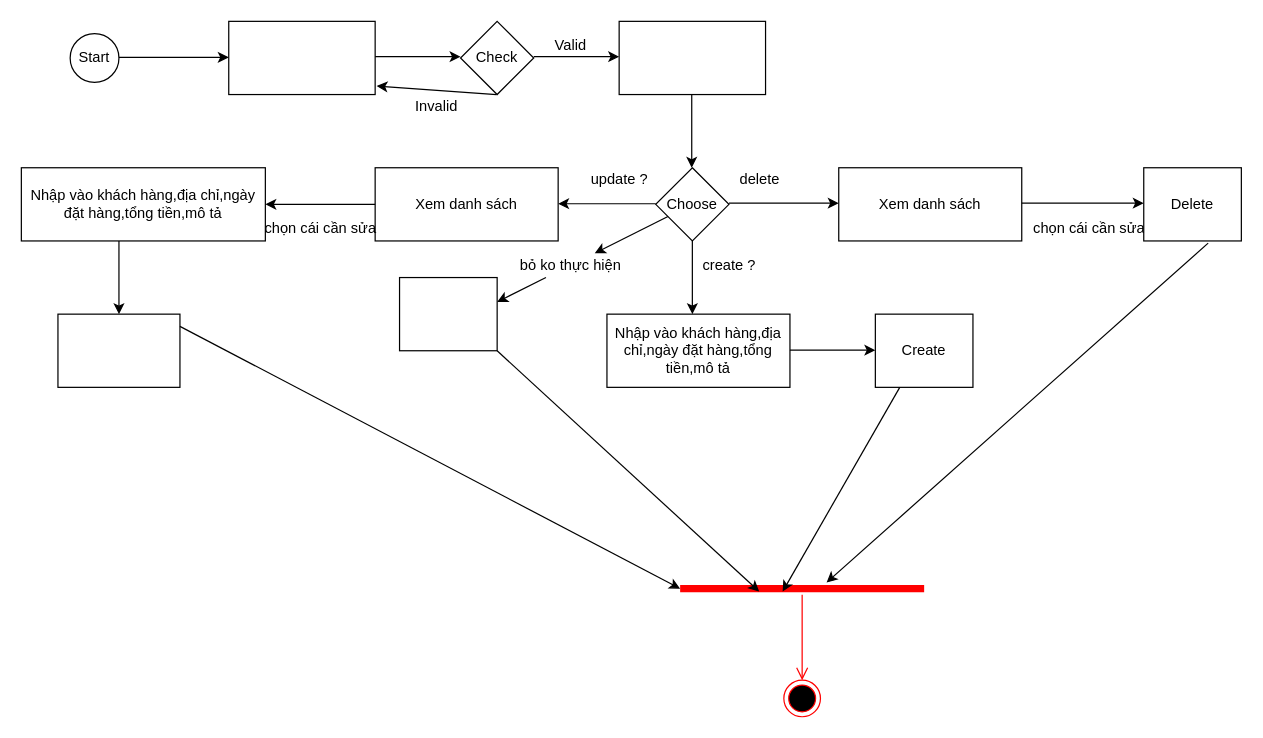
The diagram is 1263 pixels wide and 738 high, and some of its shapes have lost their labels. Here are the shapes that lost their labels. From the top down, the centre of each, then its label:
At point 301,57: "Admin login form".
At point 692,57: "Form quản lí hóa đơn".
At point 447,313: "Reset".
At point 118,350: "Update".
